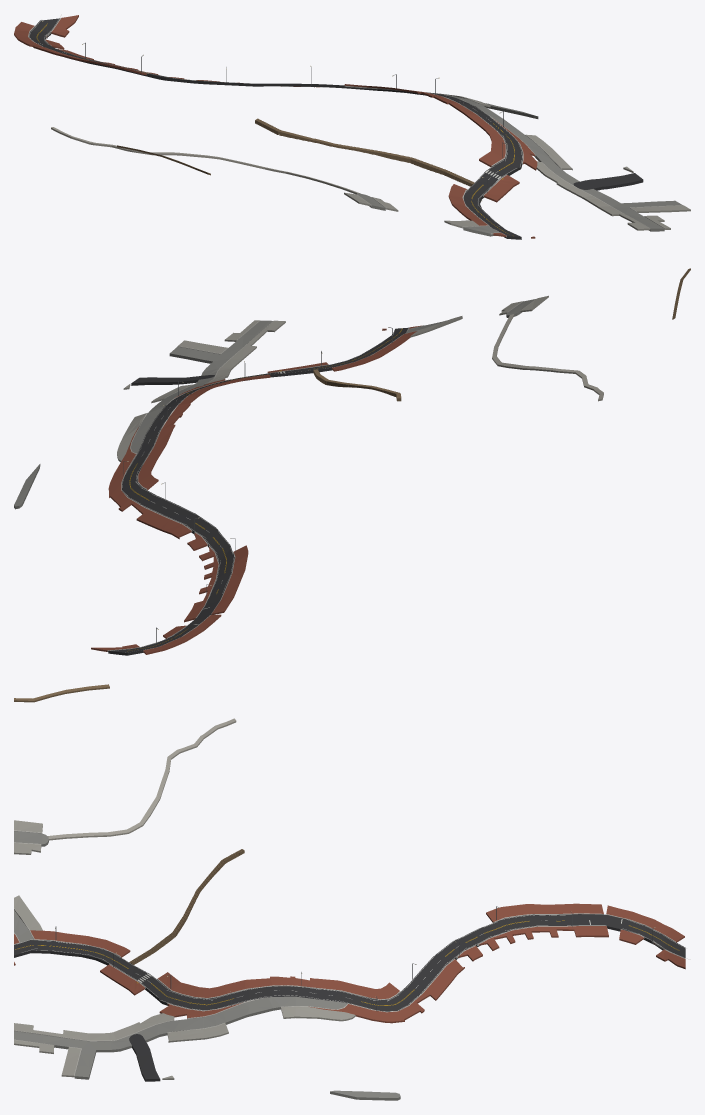
3 views of the same model, one above another, from view 1: azimuth 30°, elevation 25°; view 2: azimuth 150°, elevation 25°; view 3: azimuth 270°, elevation 25° (orthographic). The views are drawn at different scales.
Size of the model in its own units: 241 by 90.79 by 294.
